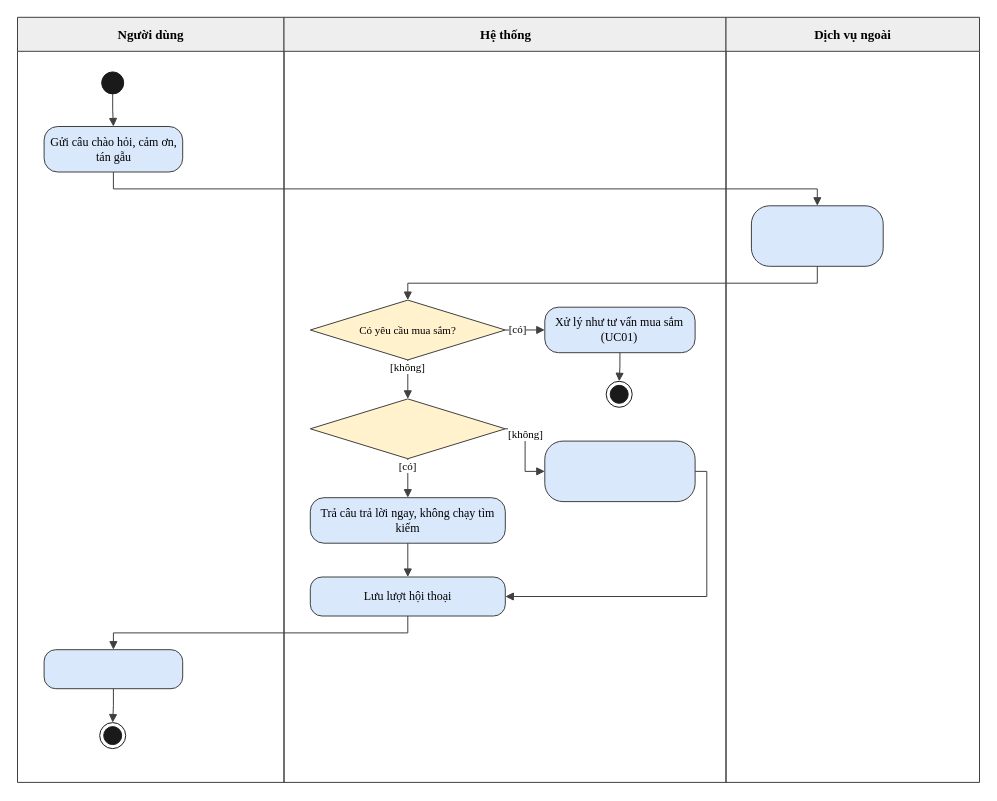
This 997x801 diagram has some shape labels left out. The shapes that lost their labels are listed below. From the top down, each one's centre as x and y in pixels, then its label:
At point (816, 235): "LLM phân loại ý định theo ý nghĩa và viết câu trả lời".
At point (407, 428): "LLM trả về câu trả lời?".
At point (619, 471): "Chuyển sang general_advice, Advisor trả lời".
At point (113, 669): "Xem câu trả lời".
